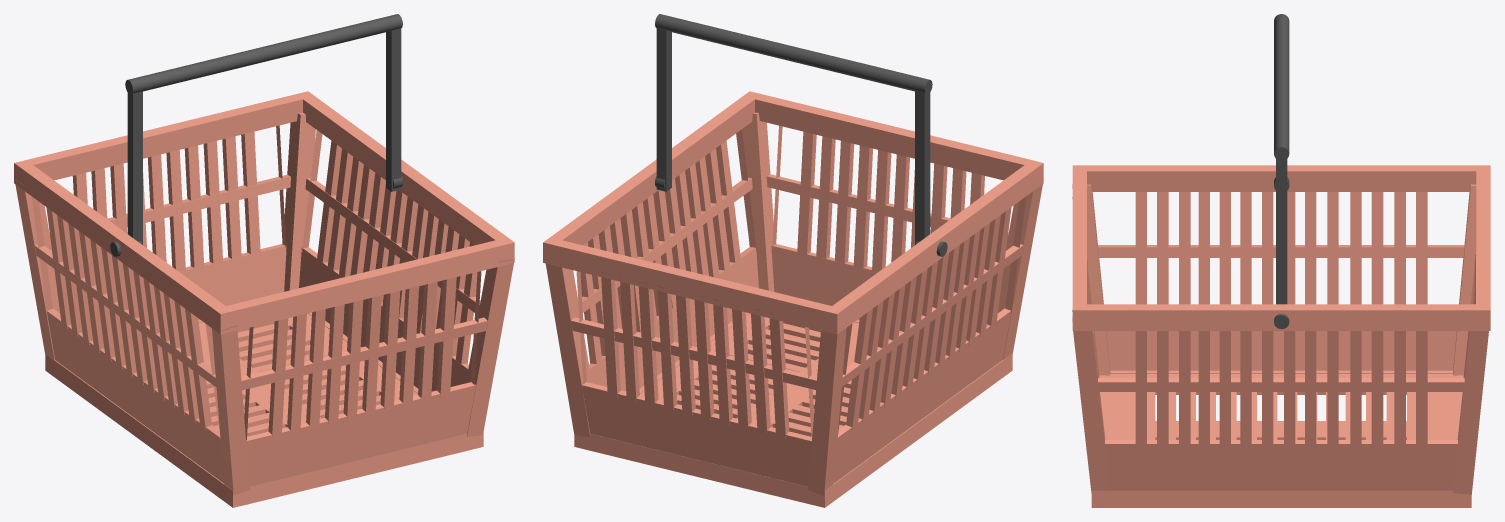
Rendered from shopping_basket.gltf.
3 renders of one model, left to right at view 1: azimuth 30°, elevation 25°; view 2: azimuth 150°, elevation 25°; view 3: azimuth 270°, elevation 25°, orthographic.
Size of the model in its own units: 9.24 by 10.61 by 11.02.
